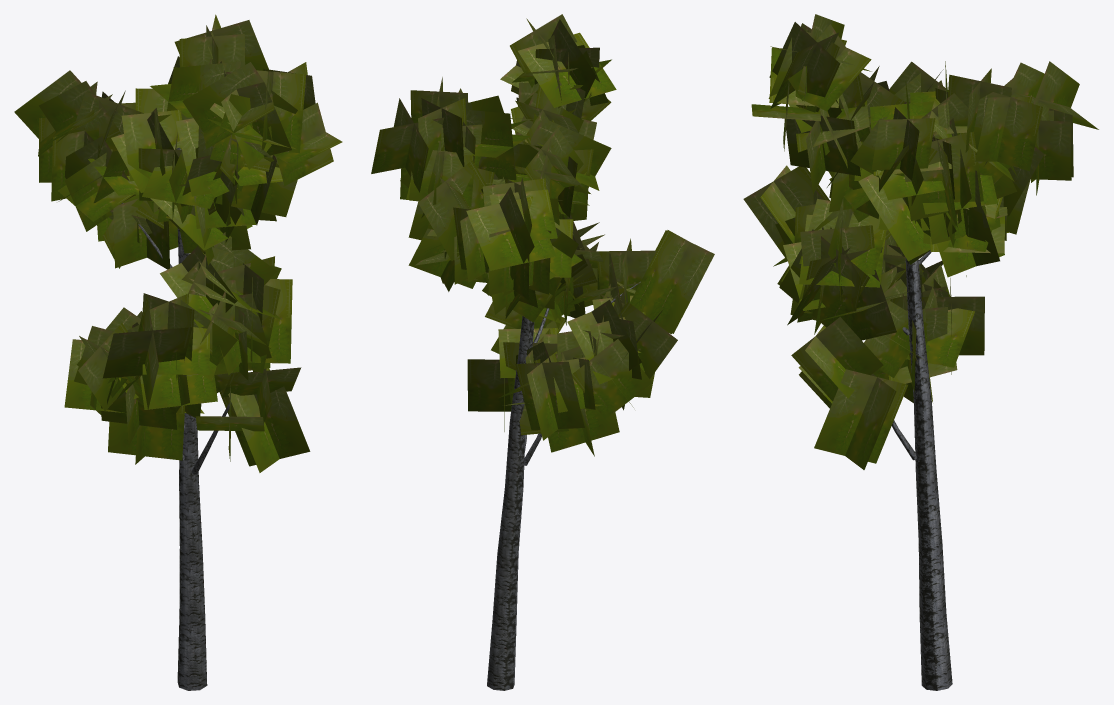
The model's file is birch.glb.
The picture shows the model from 3 angles, left to right: view 1: azimuth 30°, elevation 25°; view 2: azimuth 150°, elevation 25°; view 3: azimuth 270°, elevation 25°; orthographic projection. The views are drawn at different scales.
Visible parts, largest first — view 1: birch_canopy, birch_trunk; view 2: birch_canopy, birch_trunk; view 3: birch_canopy, birch_trunk.
Boxes of the visible parts, left/top/right/bottom form: birch_canopy: left=14, top=14, right=342, bottom=472; birch_trunk: left=122, top=147, right=231, bottom=690; birch_canopy: left=371, top=14, right=714, bottom=456; birch_trunk: left=487, top=281, right=640, bottom=690; birch_canopy: left=743, top=14, right=1098, bottom=469; birch_trunk: left=891, top=250, right=952, bottom=690.
Size of the model in its own units: 3.54 by 8.64 by 4.16.
2 materials, 2 textured.
